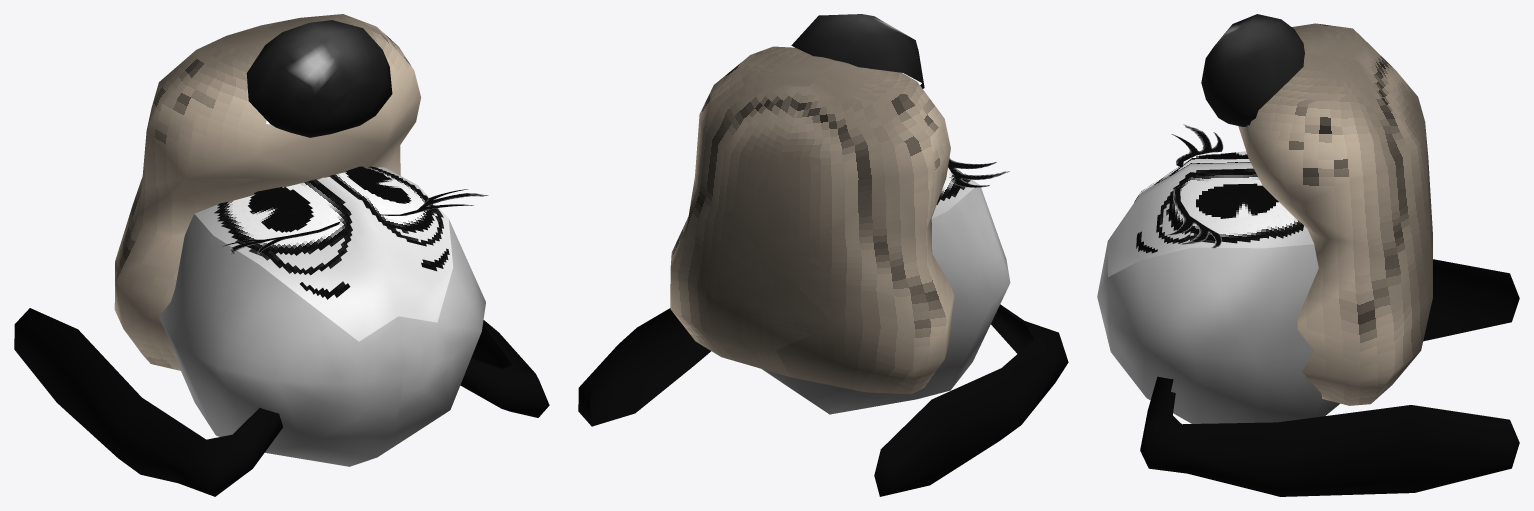
File: dss.glb
3 views of the same model, side by side, from view 1: azimuth 30°, elevation 25°; view 2: azimuth 150°, elevation 25°; view 3: azimuth 270°, elevation 25° (orthographic). The views are drawn at different scales.
Parts seen in each view (by area): view 1: head, muzzle, ears, head-front, nose, eyes, def_left_pupil, eyelashes, def_right_pupil; view 2: muzzle, ears, head, nose, eyelashes; view 3: muzzle, ears, head, nose, eyes, head-front, def_right_pupil, eyelashes.
Part boxes in pixels (box(x1,y1,x2,y2)): head: box(159, 214, 485, 466); muzzle: box(114, 14, 421, 370); ears: box(14, 308, 549, 496); head-front: box(194, 167, 453, 341); nose: box(246, 20, 392, 137); eyes: box(214, 166, 449, 299); def_left_pupil: box(248, 187, 313, 232); eyelashes: box(221, 189, 488, 254); def_right_pupil: box(345, 166, 411, 203); muzzle: box(670, 46, 954, 394); ears: box(578, 304, 1068, 496); head: box(762, 187, 1010, 414); nose: box(791, 14, 924, 88); eyelashes: box(948, 158, 1009, 187); muzzle: box(1238, 23, 1432, 405); ears: box(1140, 259, 1519, 496); head: box(1097, 244, 1339, 423); nose: box(1201, 14, 1304, 126); eyes: box(1134, 158, 1303, 253); head-front: box(1107, 162, 1313, 276); def_right_pupil: box(1196, 183, 1278, 218); eyelashes: box(1167, 124, 1223, 248).
Size of the model in its own units: 1.2 by 1.28 by 1.21.
Materials: 7 (6 with a texture image).
